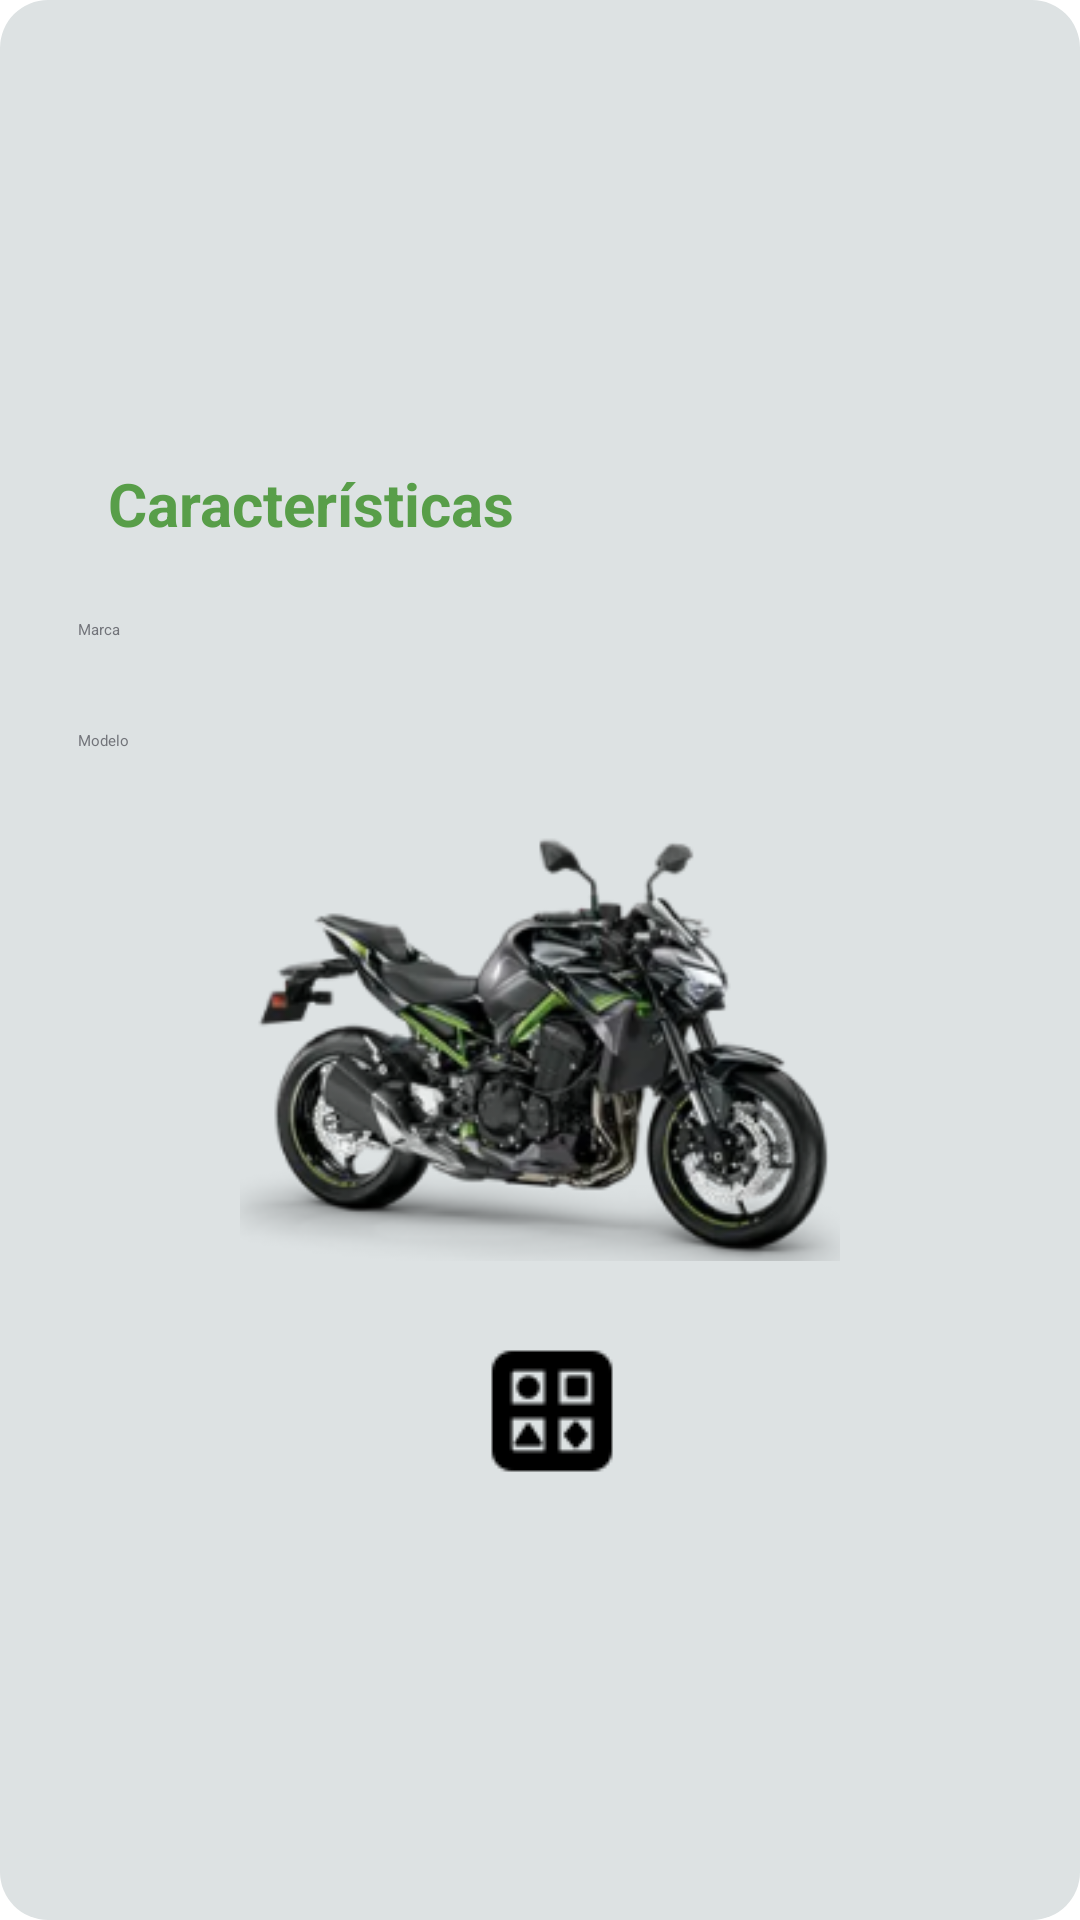

Icons on this 1080x1920 Android screen, each with the point to tap as (x=x, y=y):
galeria: (x=552, y=1411)
